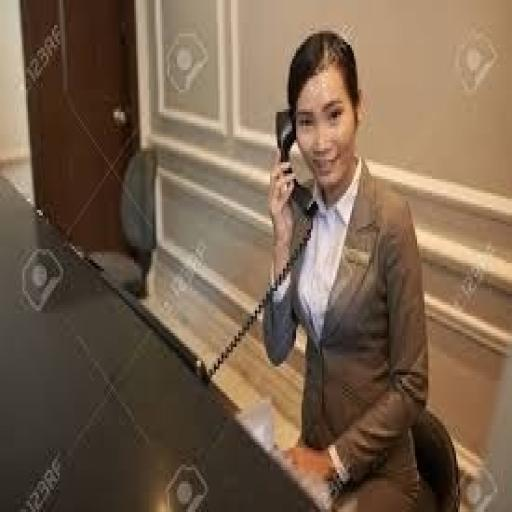calling: (259, 28, 432, 509)
